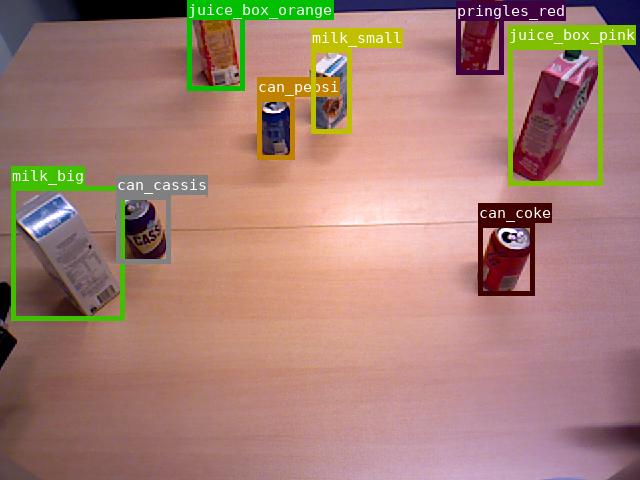can_cassis: (116, 195, 170, 263)
can_coke: (478, 223, 534, 295)
can_pepsi: (257, 97, 294, 159)
juice_box_orange: (187, 0, 244, 90)
juice_box_pink: (508, 45, 602, 185)
milk_big: (11, 186, 124, 320)
milk_small: (311, 48, 351, 133)
pringles_red: (456, 1, 503, 74)
